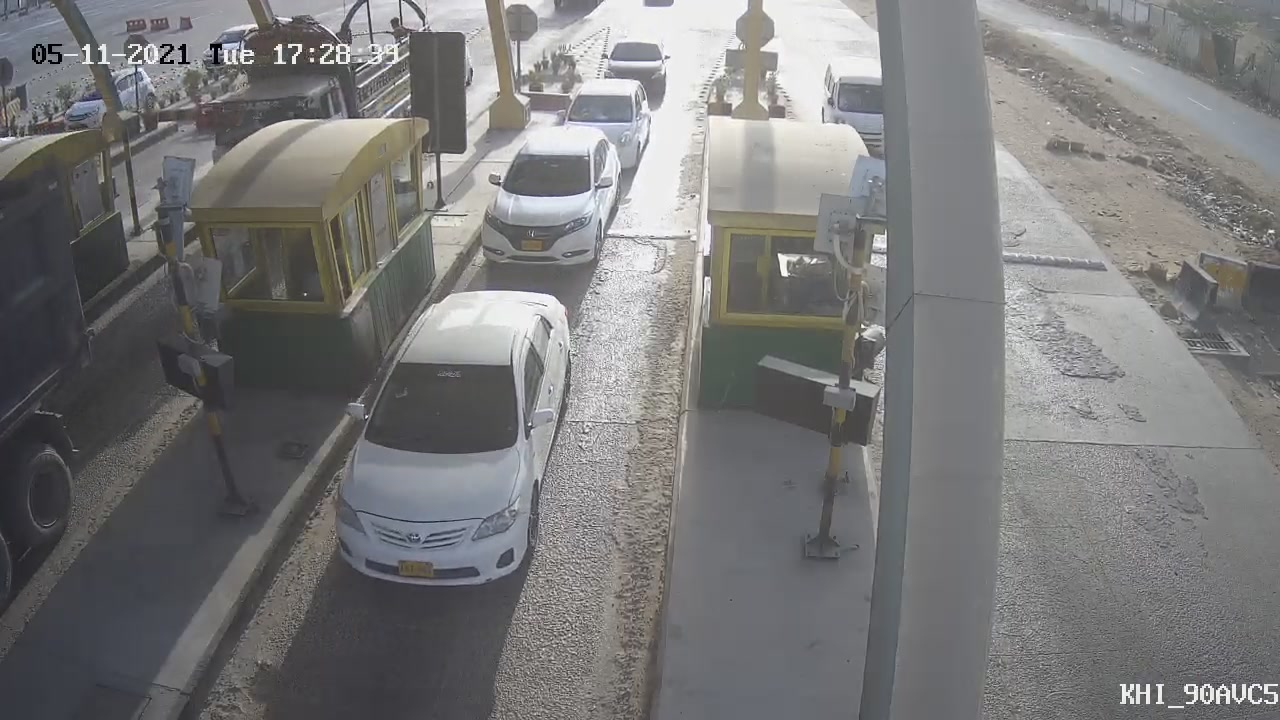F1: (299, 270, 590, 608), (463, 113, 639, 282)
